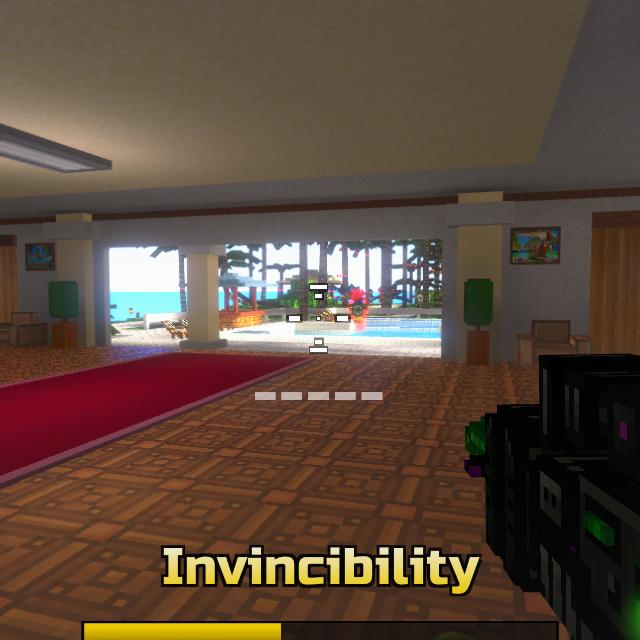Enemy: (349, 296, 367, 322)
